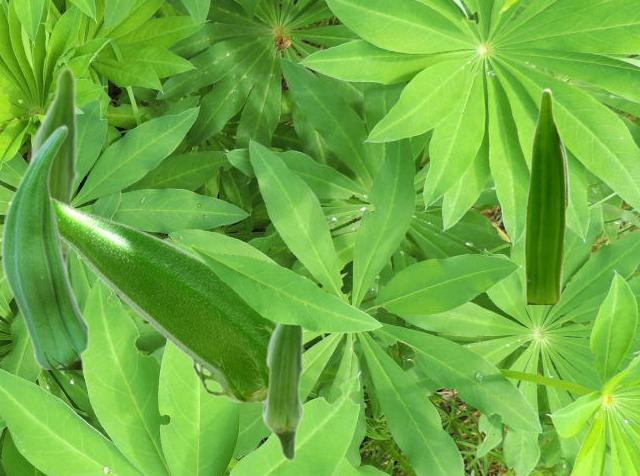okra: (53, 197, 275, 401), (0, 124, 87, 368), (26, 66, 78, 280), (524, 87, 569, 303), (261, 323, 304, 461)
